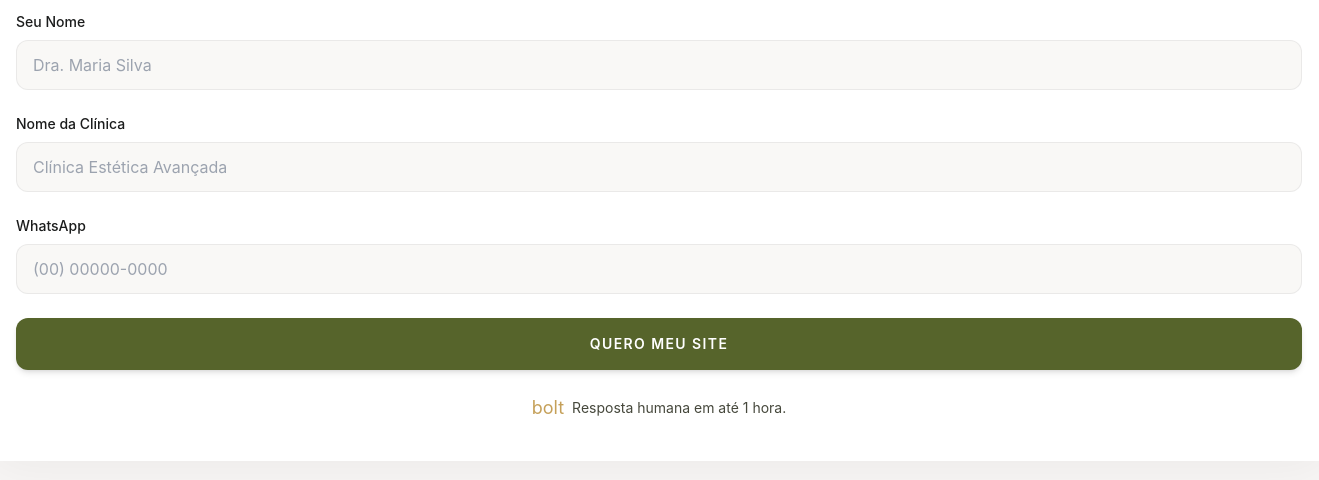
Test: LeadForm › posts the lead to /api/lead and shows confirmation
Type "Dra. Ana" into the field labelled "Seu Nome". click: (659, 65)
box: [16, 40, 1302, 90]
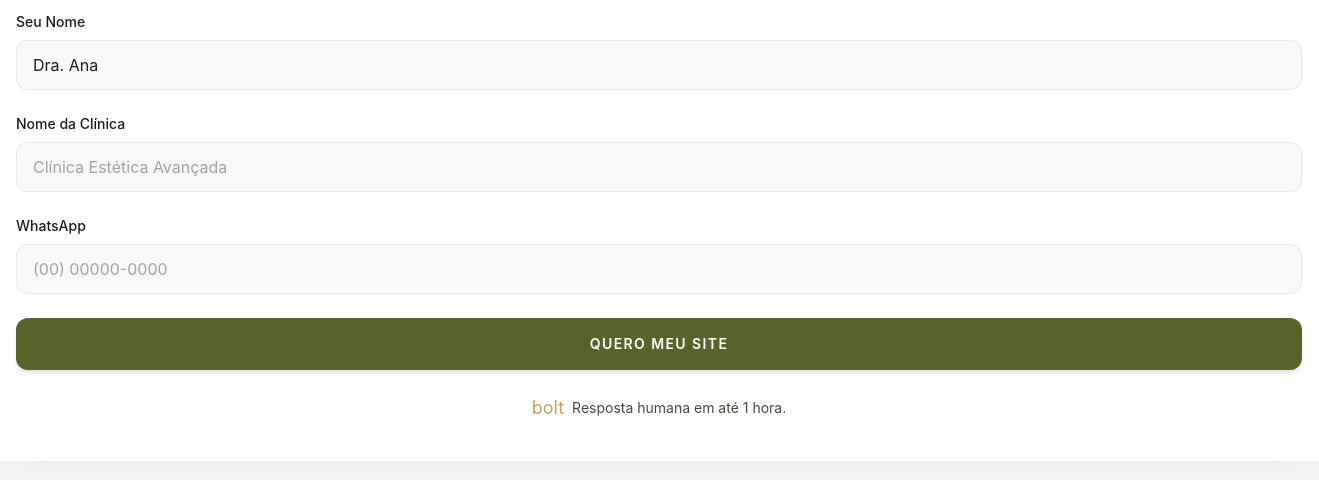
Type "Clínica Bella" into the field labelled "Nome da Clínica". click: (659, 167)
box: [16, 142, 1302, 192]
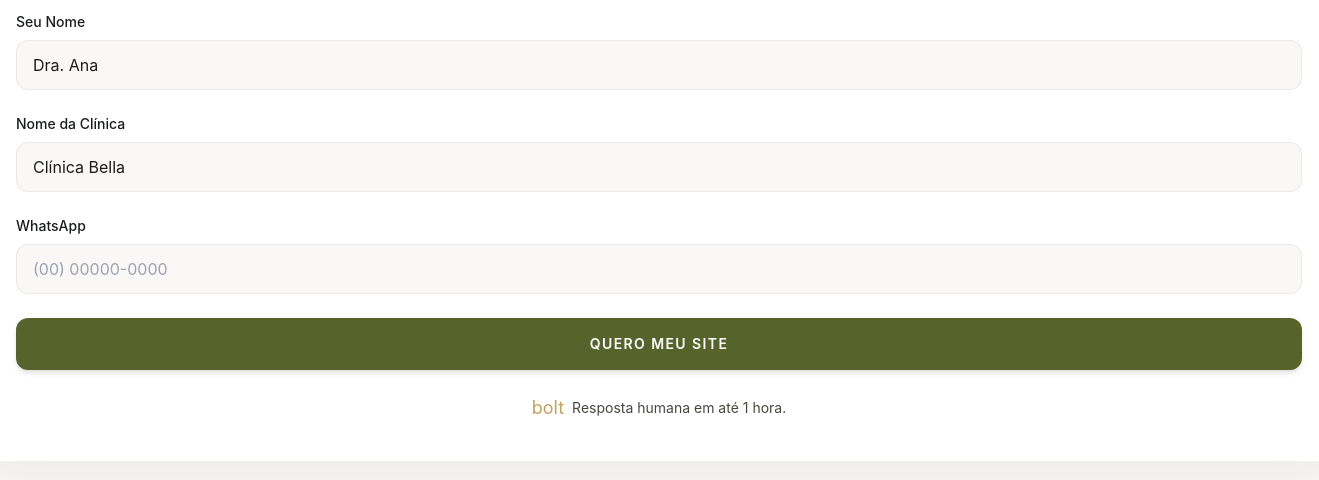
Type "(62) 99999-0000" into the field labelled "WhatsApp". click: (659, 269)
box: [16, 244, 1302, 294]
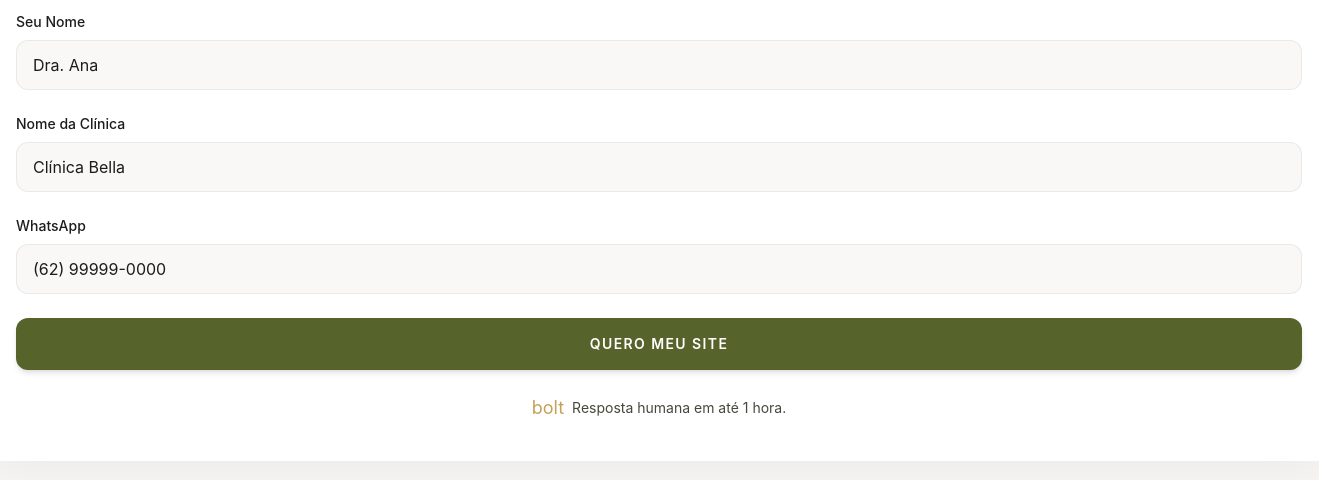
Click the button "Quero meu site". click: (659, 344)
box: [16, 318, 1302, 370]
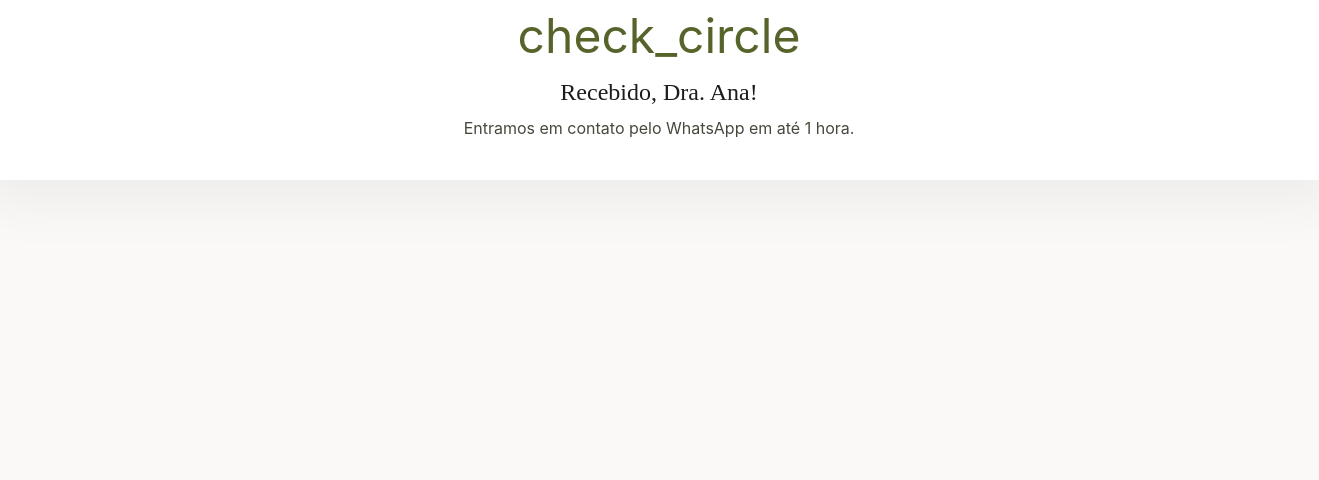
Result: the heading "Recebido, Dra. Ana!" is shown at [560, 79, 758, 105]
